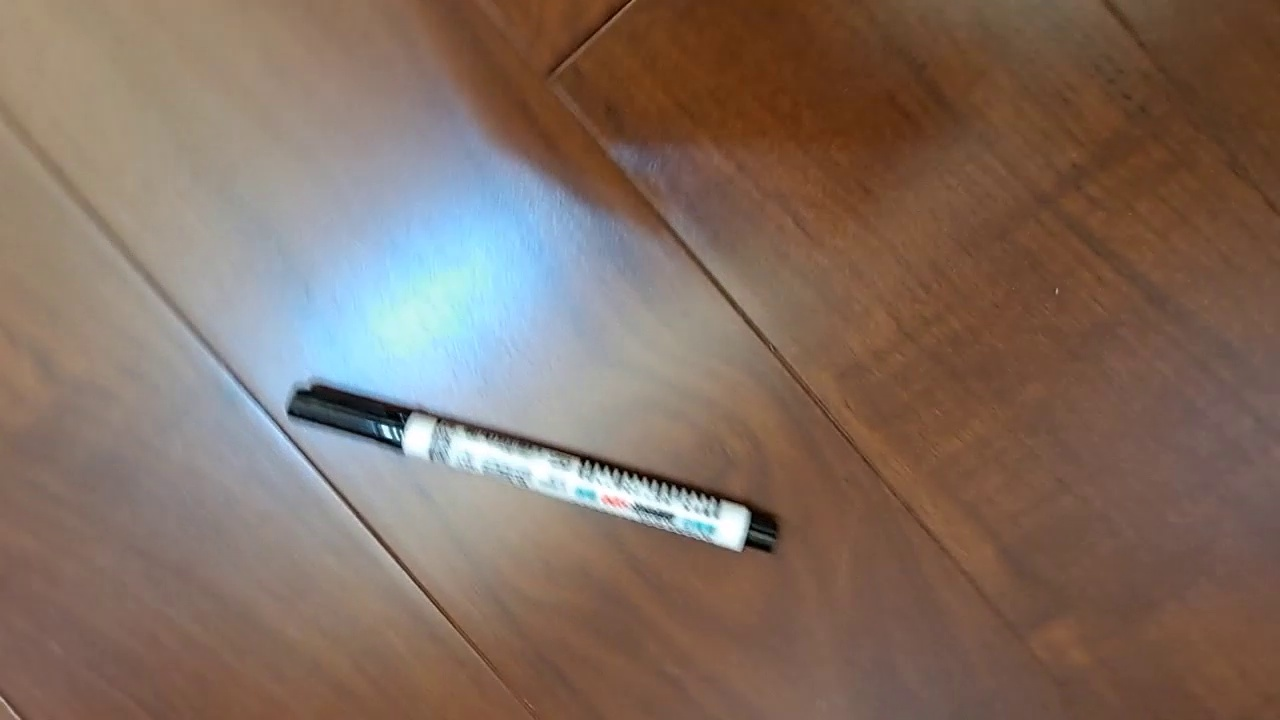pen: (284, 378, 782, 558)
